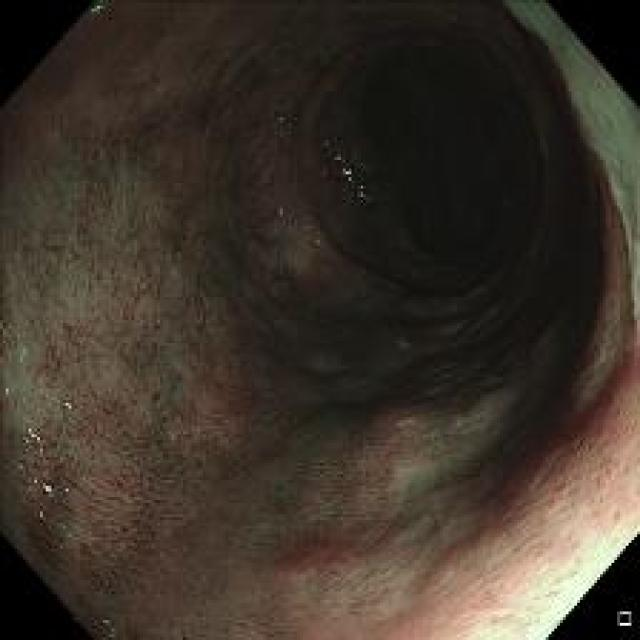color misalignment: (18, 422, 54, 520), (330, 154, 369, 198), (321, 138, 341, 175), (86, 0, 110, 19), (60, 399, 75, 412), (2, 381, 12, 399), (272, 206, 285, 219), (274, 115, 289, 126)
contrast: (136, 24, 594, 428)
saturation: (524, 542, 624, 628)
